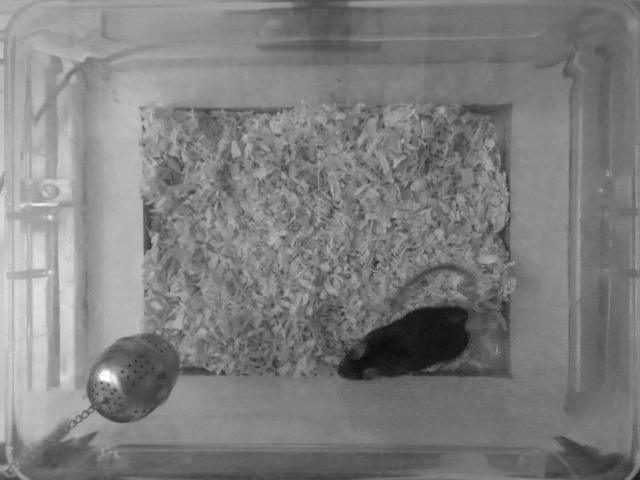mice: (334, 262, 484, 380)
